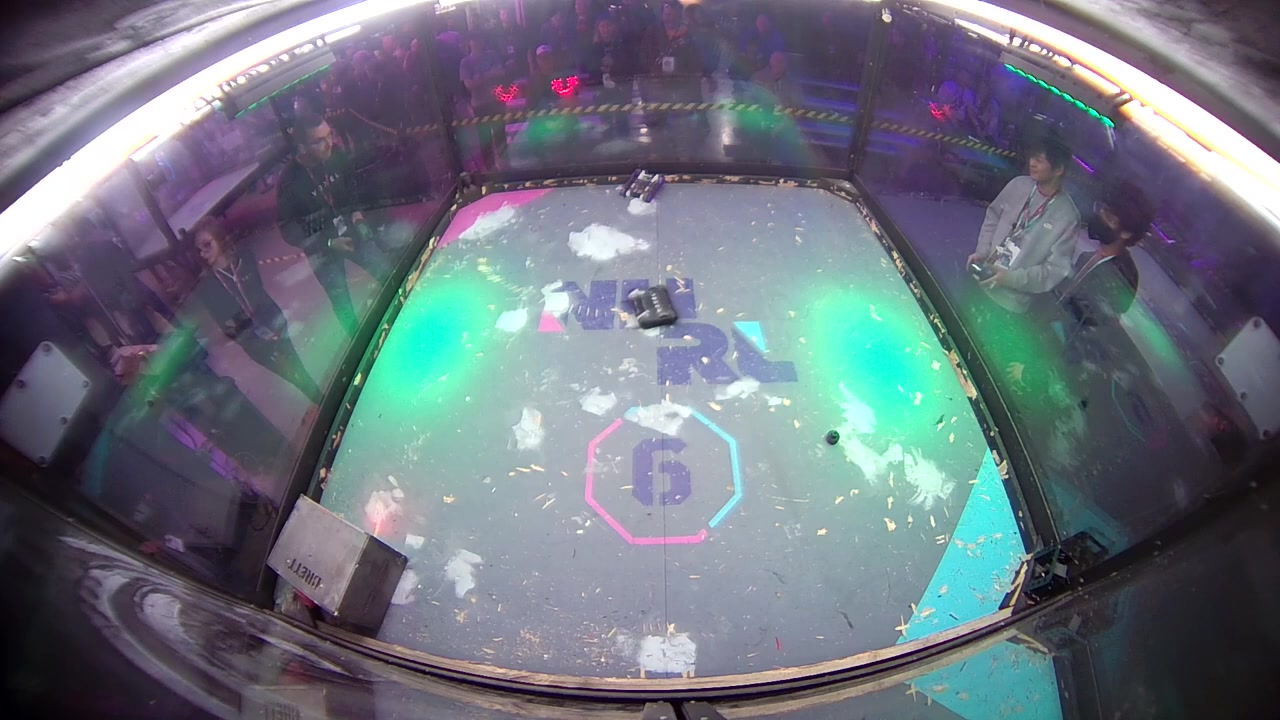combatbot: (621, 281, 688, 329), (621, 168, 664, 206)
housebot: (265, 497, 409, 635)
wheel: (823, 430, 842, 447)
